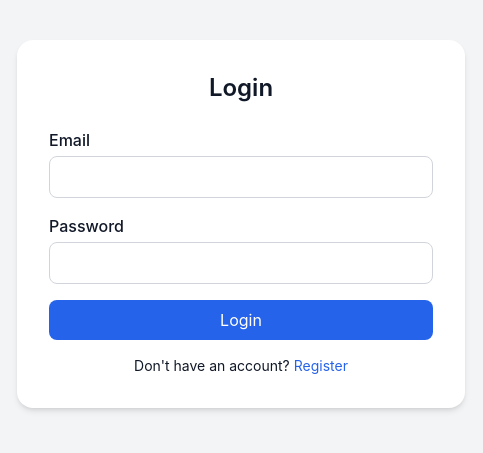
it: Login Page › shows validation errors if fields are empty
Click the button with test id "submit" at (241,320), box [49, 300, 433, 340]
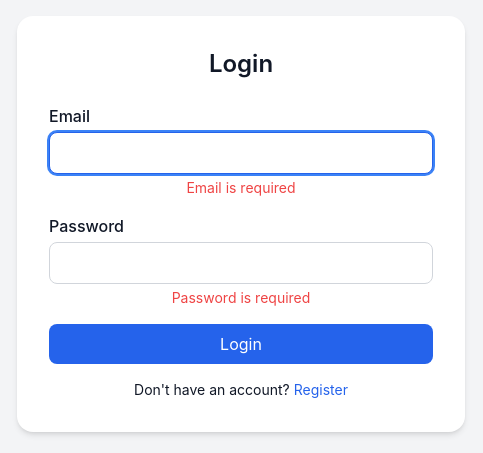
Expected: the text "Email is required" is shown, [186, 179, 296, 196]
Expected: the text "Password is required" is shown, [172, 289, 310, 306]
